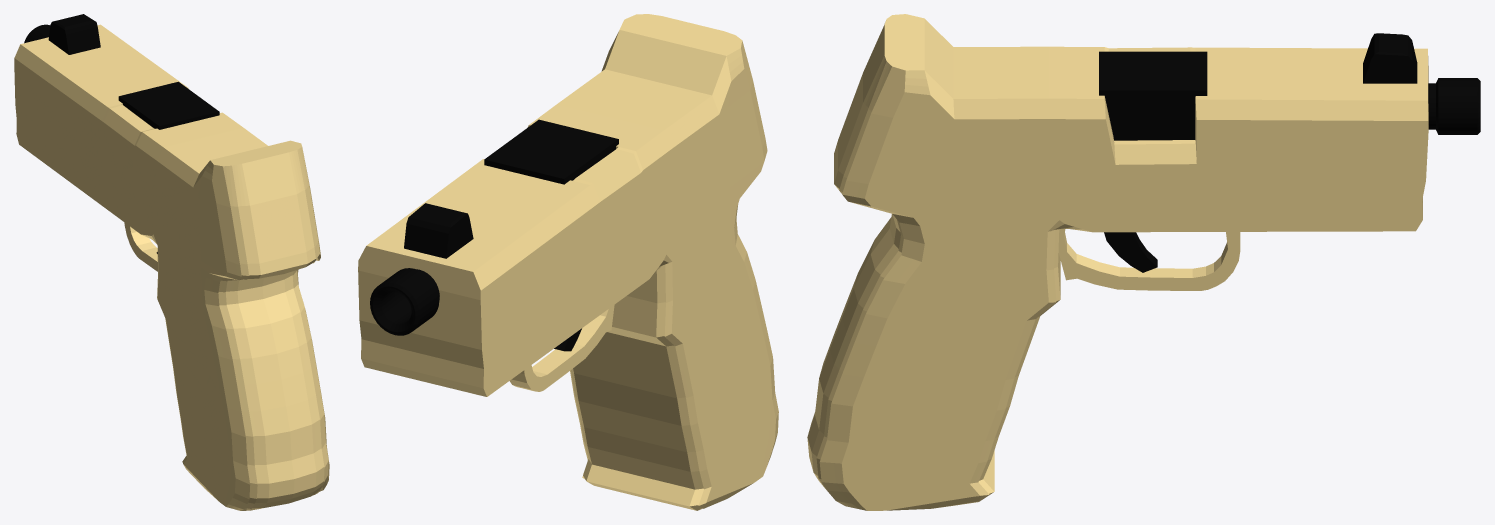
3 renders of one model, left to right at view 1: azimuth 30°, elevation 25°; view 2: azimuth 150°, elevation 25°; view 3: azimuth 270°, elevation 25°, orthographic. The views are drawn at different scales.
Parts seen in each view (by area): view 1: Main, Cube, Front Sight, Trigger Guard; view 2: Main, Cube, Barrel, Front Sight, Trigger Guard; view 3: Main, Cube, Trigger Guard, Barrel, Front Sight, Trigger.
Boxes of the visible parts, <box> form: Main: <box>14,24,329,510</box>; Cube: <box>118,81,219,129</box>; Front Sight: <box>48,14,100,54</box>; Trigger Guard: <box>124,222,157,271</box>; Main: <box>358,14,778,510</box>; Cube: <box>484,119,618,184</box>; Barrel: <box>370,268,439,335</box>; Front Sight: <box>404,203,473,258</box>; Trigger Guard: <box>510,305,614,391</box>; Main: <box>807,14,1428,510</box>; Cube: <box>1099,51,1207,140</box>; Trigger Guard: <box>1058,229,1240,290</box>; Barrel: <box>1428,78,1480,134</box>; Front Sight: <box>1363,33,1417,83</box>; Trigger: <box>1104,232,1157,272</box>.
Bounding box in the file's own units: 0.9577 × 3.32 × 4.58.
